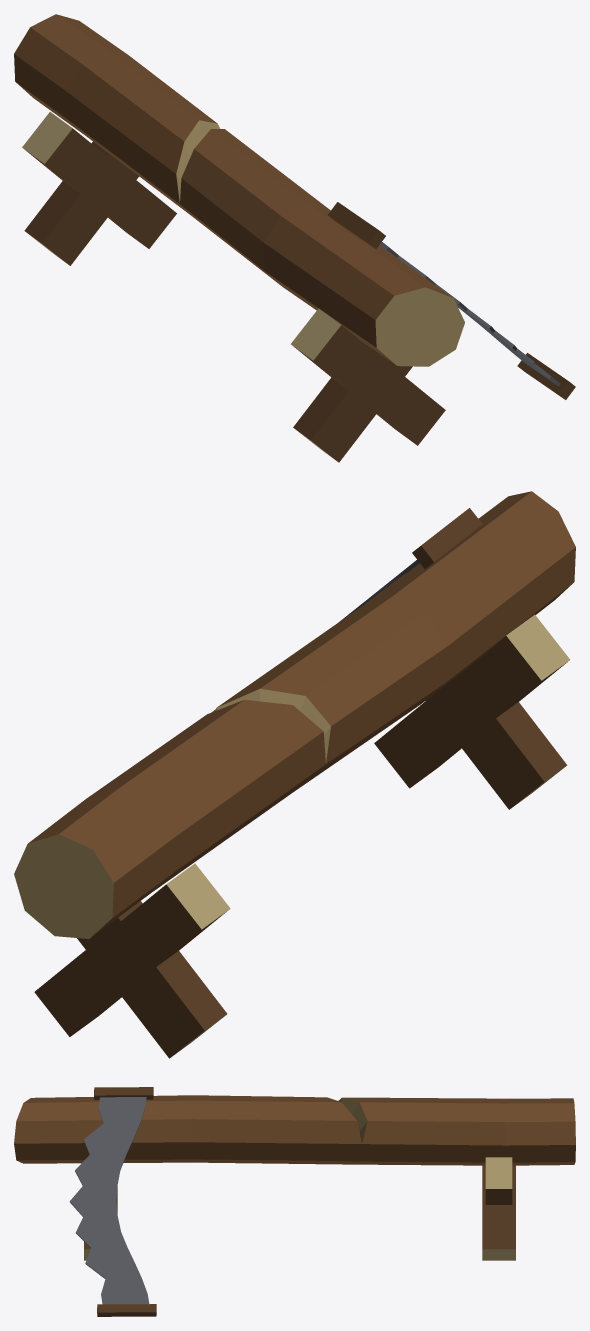
Rendered from Sawmill_saw.glb.
3 renders of one model, top to bottom at view 1: azimuth 30°, elevation 25°; view 2: azimuth 150°, elevation 25°; view 3: azimuth 270°, elevation 25°, orthographic. The views are drawn at different scales.
Visible parts, largest first — view 1: Sawmill_saw; view 2: Sawmill_saw; view 3: Sawmill_saw.
Part boxes in pixels (x1,y1,x2,y2): Sawmill_saw: (14,14,575,462); Sawmill_saw: (14,491,575,1058); Sawmill_saw: (14,1087,575,1316).
Bounding box in the file's own units: 0.7053 × 0.5415 × 1.7.
